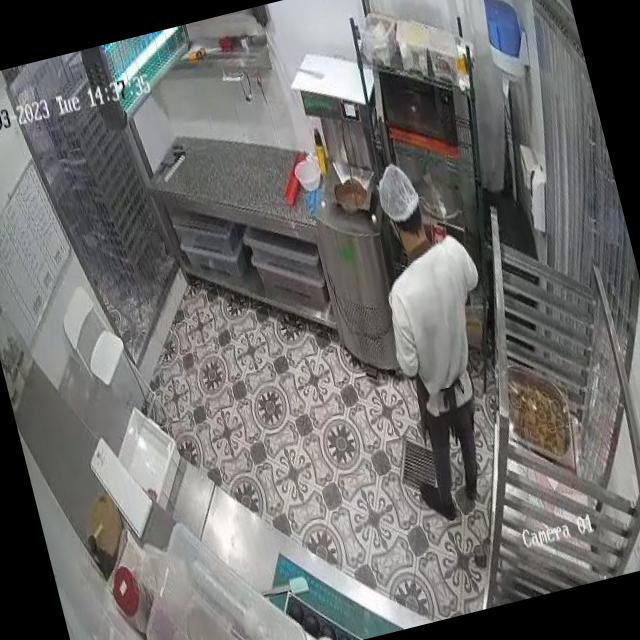hairnet: (376, 161, 419, 224)
